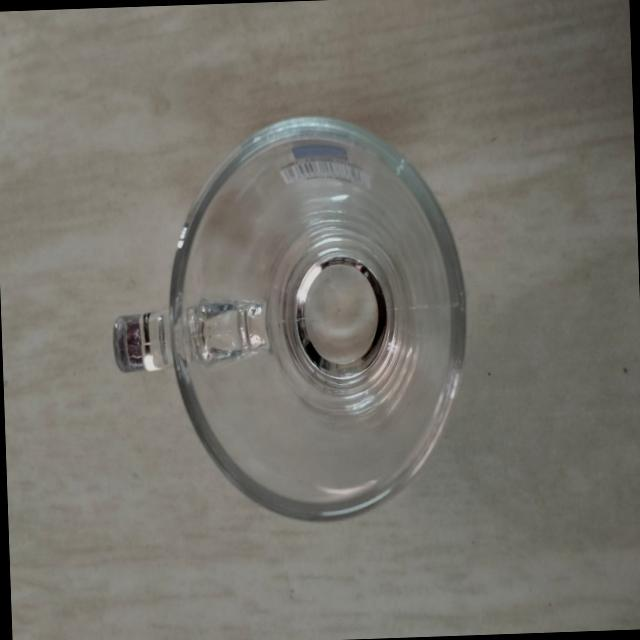glass-VX4N: (100, 107, 478, 531)
